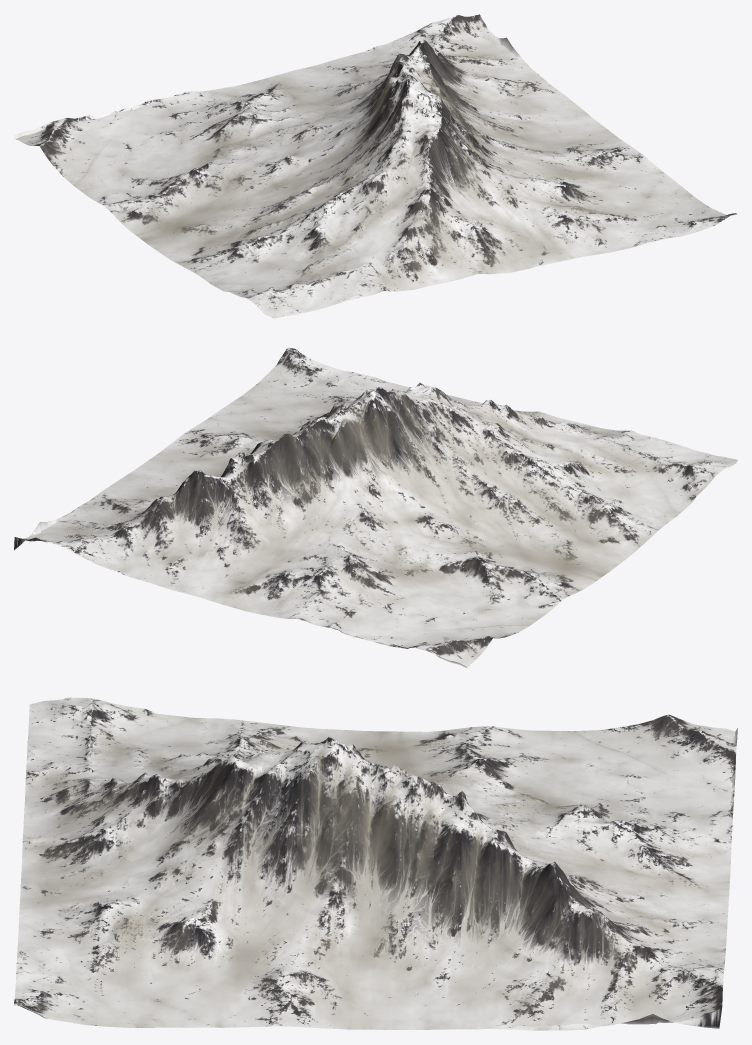
The model's file is snow_mountain.glb.
The picture shows the model from 3 angles, top to bottom: view 1: azimuth 30°, elevation 25°; view 2: azimuth 150°, elevation 25°; view 3: azimuth 270°, elevation 25°; orthographic projection. The views are drawn at different scales.
Visible parts, largest first — view 1: Plane001; view 2: Plane001; view 3: Plane001.
Part boxes in pixels (left/top/right/bottom): Plane001: left=14, top=14, right=737, bottom=318; Plane001: left=14, top=347, right=737, bottom=668; Plane001: left=14, top=697, right=737, bottom=1030.
Size of the model in its own units: 143 by 33.42 by 143.
1 material, 1 textured.
